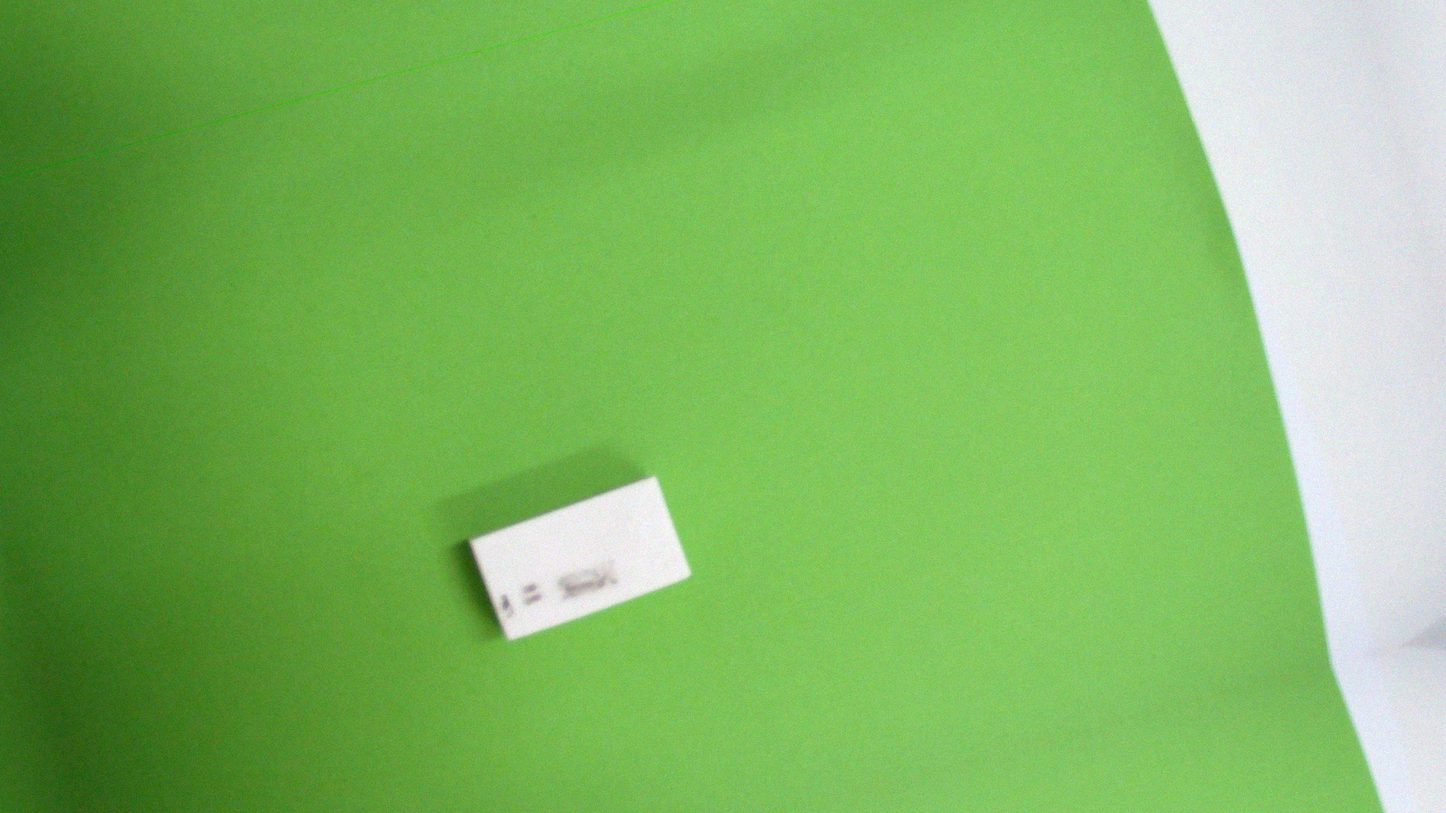gom: (459, 462, 700, 656)
